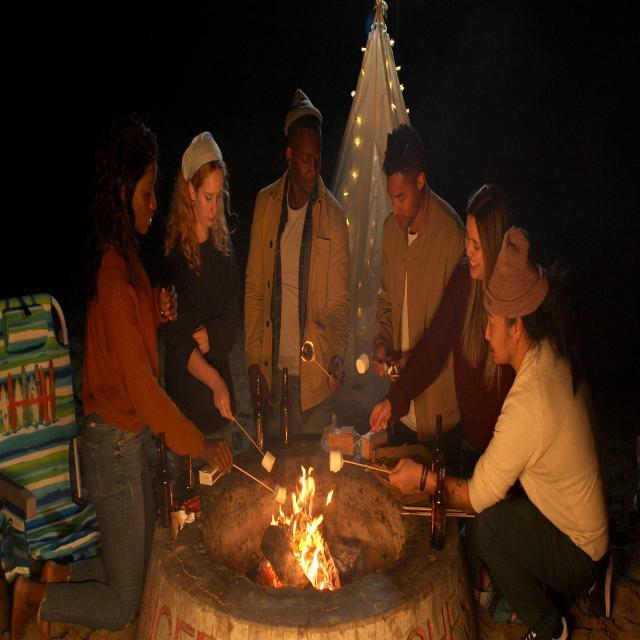Fire: (285, 466, 338, 591)
